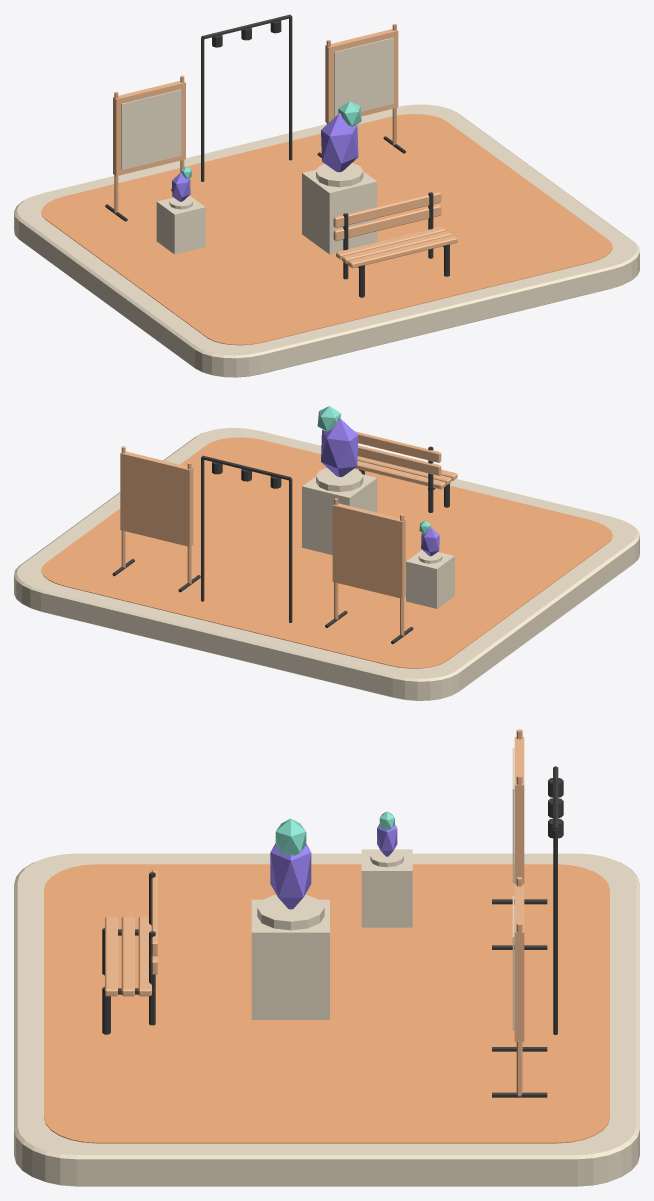
3 renders of one model, top to bottom at view 1: azimuth 30°, elevation 25°; view 2: azimuth 150°, elevation 25°; view 3: azimuth 270°, elevation 25°, orthographic. The views are drawn at different scales.
Visible parts, largest first — view 1: COM-02 Floor Surface, COM-01 Rounded Base Direct, Art surface, Display plinth, Art surface.001, Display plinth.001, Frame, Frame.001, Sculpture, Back slat.001, Back slat, Seat slat (+5 smaller); view 2: COM-02 Floor Surface, COM-01 Rounded Base Direct, Frame.001, Frame, Display plinth, Display plinth.001, Sculpture, Back slat.001, Back slat, Plinth, Seat slat.002, Pole (+4 smaller); view 3: COM-02 Floor Surface, COM-01 Rounded Base Direct, Display plinth, Display plinth.001, Sculpture, Plinth, Frame.001, Frame, Seat slat.001, Seat slat, Pole.001, Seat slat.002 (+1 smaller).
Part boxes in pixels (x1=…): COM-02 Floor Surface: x1=41, y1=114, x2=612, y2=345; COM-01 Rounded Base Direct: x1=14, y1=104, x2=639, y2=377; Art surface: x1=121, y1=89, x2=181, y2=169; Display plinth: x1=302, y1=169, x2=377, y2=254; Art surface.001: x1=334, y1=37, x2=393, y2=117; Display plinth.001: x1=156, y1=195, x2=205, y2=254; Frame: x1=113, y1=81, x2=185, y2=176; Frame.001: x1=325, y1=29, x2=398, y2=123; Sculpture: x1=321, y1=113, x2=358, y2=172; Back slat.001: x1=333, y1=192, x2=441, y2=227; Back slat: x1=333, y1=205, x2=441, y2=240; Seat slat: x1=347, y1=235, x2=457, y2=268; COM-02 Floor Surface: x1=41, y1=437, x2=612, y2=668; COM-01 Rounded Base Direct: x1=14, y1=428, x2=639, y2=700; Frame.001: x1=120, y1=451, x2=193, y2=546; Frame: x1=332, y1=503, x2=405, y2=598; Display plinth: x1=302, y1=474, x2=377, y2=554; Display plinth.001: x1=406, y1=550, x2=454, y2=608; Sculpture: x1=321, y1=418, x2=358, y2=476; Back slat.001: x1=354, y1=431, x2=441, y2=462; Back slat: x1=357, y1=445, x2=441, y2=475; Plinth: x1=316, y1=468, x2=363, y2=491; Seat slat.002: x1=355, y1=461, x2=445, y2=489; Pole: x1=289, y1=478, x2=292, y2=622; COM-02 Floor Surface: x1=44, y1=864, x2=609, y2=1143; COM-01 Rounded Base Direct: x1=14, y1=853, x2=639, y2=1186; Display plinth: x1=251, y1=899, x2=329, y2=1019; Display plinth.001: x1=361, y1=849, x2=412, y2=927; Sculpture: x1=270, y1=843, x2=311, y2=909; Plinth: x1=257, y1=895, x2=324, y2=930; Frame.001: x1=514, y1=884, x2=524, y2=1041; Frame: x1=514, y1=737, x2=524, y2=884; Seat slat.001: x1=121, y1=916, x2=134, y2=996; Seat slat: x1=105, y1=916, x2=117, y2=996; Pole.001: x1=553, y1=830, x2=557, y2=1034; Seat slat.002: x1=138, y1=916, x2=151, y2=996.
Size of the model in its own units: 6 by 2.19 by 5.2.
Materials: 1 (1 with a texture image).
